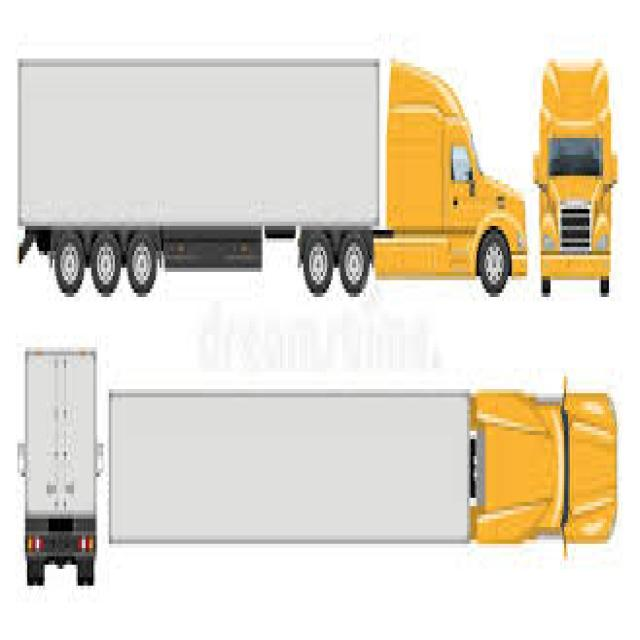truck: (109, 383, 618, 544)
